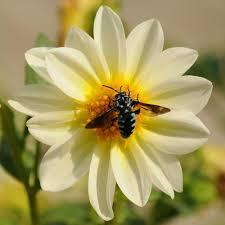Thyreus: (76, 81, 164, 138)
